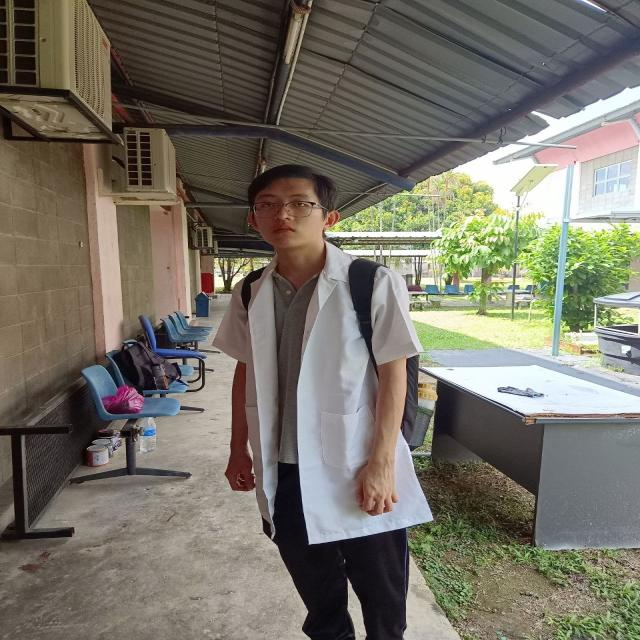person_with_labcoat: (214, 165, 431, 640)
